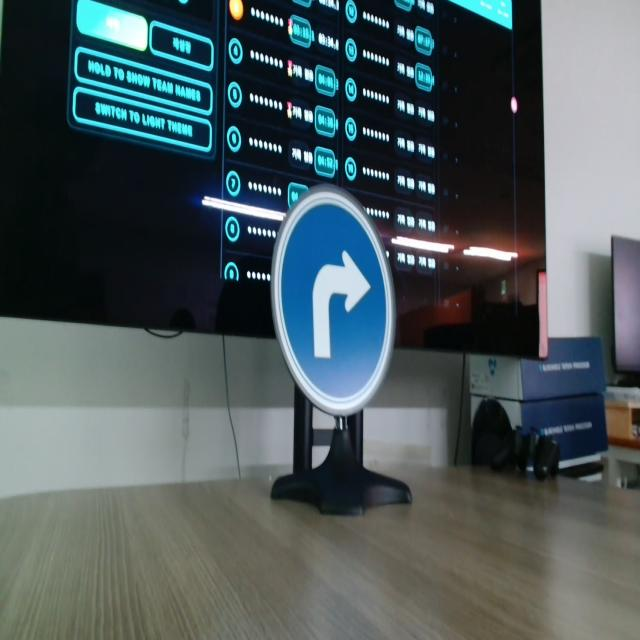right_dierection: (266, 166, 408, 436)
